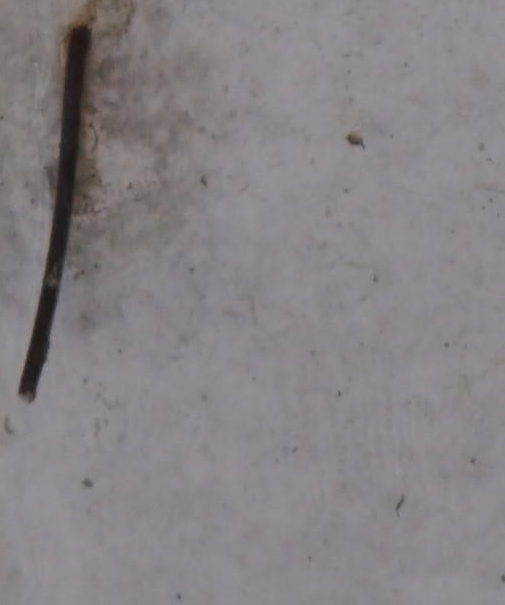Exposed reinforcement: (16, 26, 92, 404)
